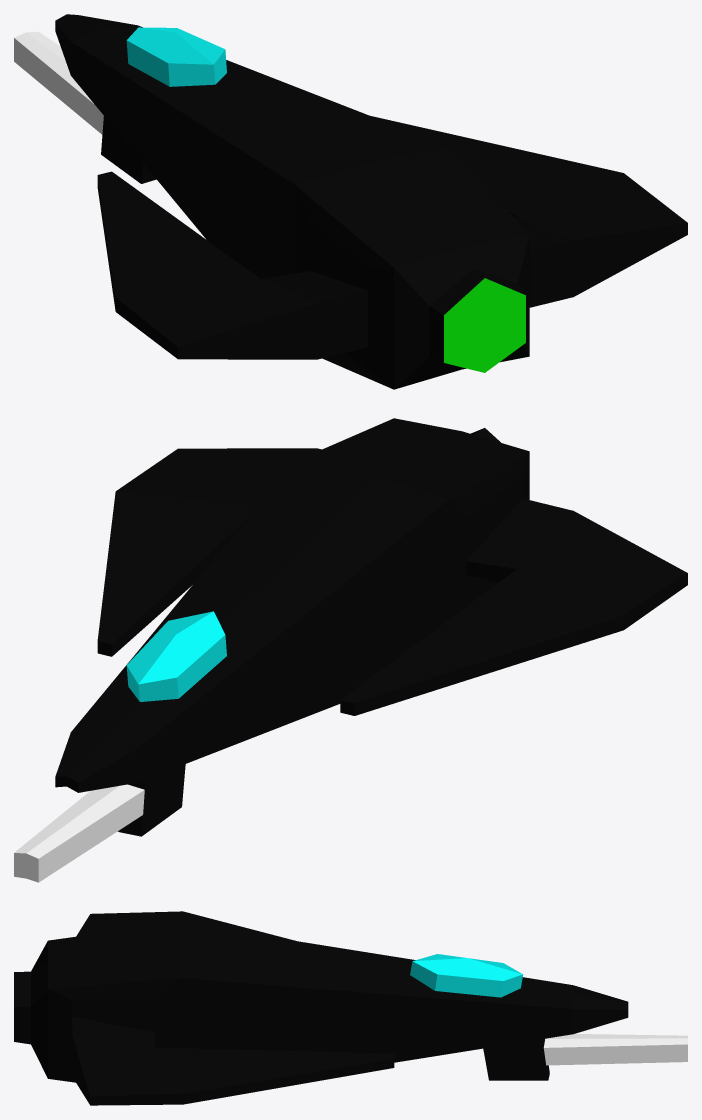
The model's file is spaceship.fbx.
3 renders of one model, top to bottom at view 1: azimuth 30°, elevation 25°; view 2: azimuth 150°, elevation 25°; view 3: azimuth 270°, elevation 25°, orthographic. The views are drawn at different scales.
Visible parts, largest first — view 1: Cube; view 2: Cube; view 3: Cube.
Boxes of the visible parts, left/top/right/bottom form: Cube: left=14, top=14, right=687, bottom=389; Cube: left=14, top=418, right=687, bottom=882; Cube: left=14, top=911, right=687, bottom=1105.
Bounding box in the file's own units: 659 × 211 × 1026.
